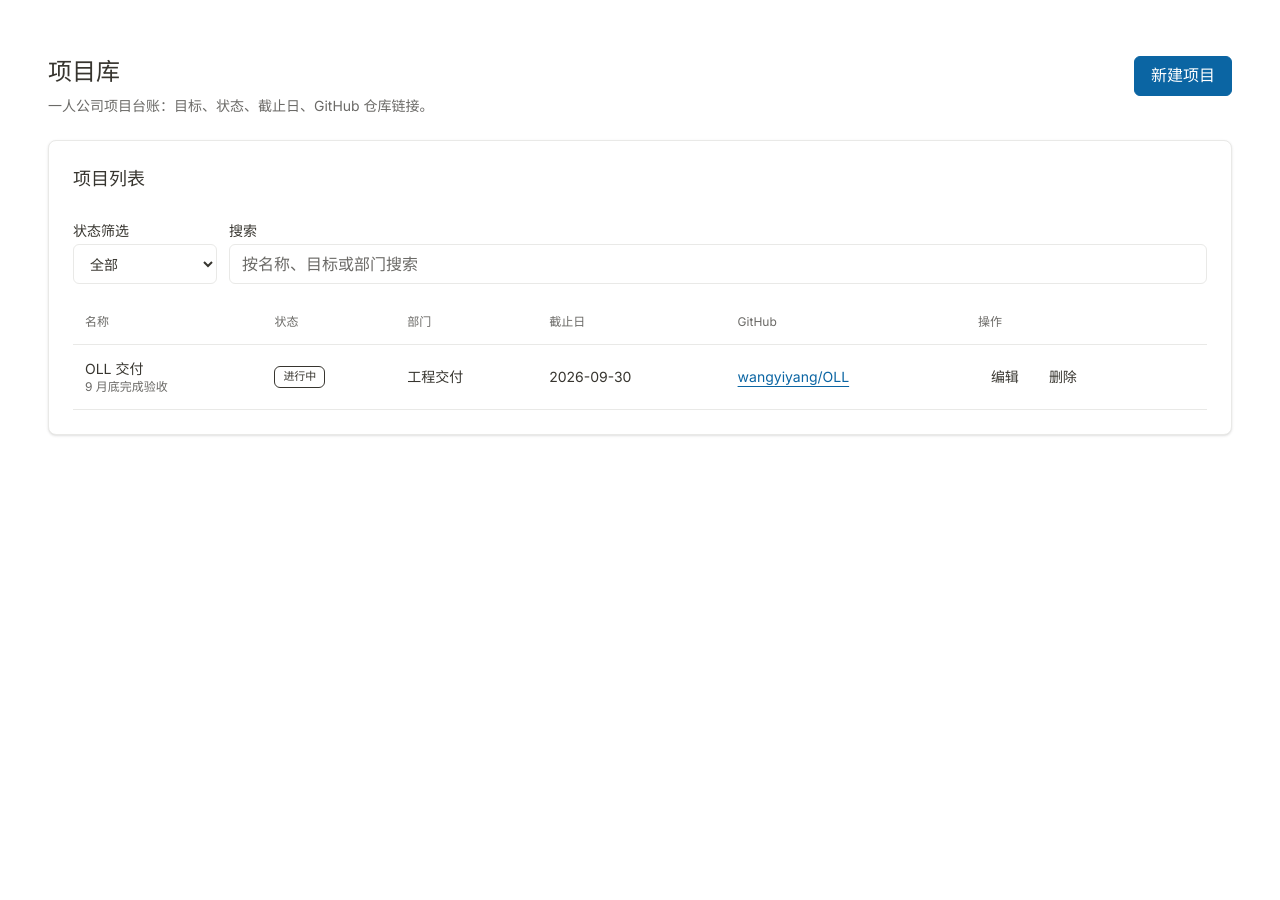
Test: ProjectsPage › opens the create drawer via 新建项目 and closes it without saving
Click the button "新建项目" at (1183, 76), box [1134, 56, 1232, 96]
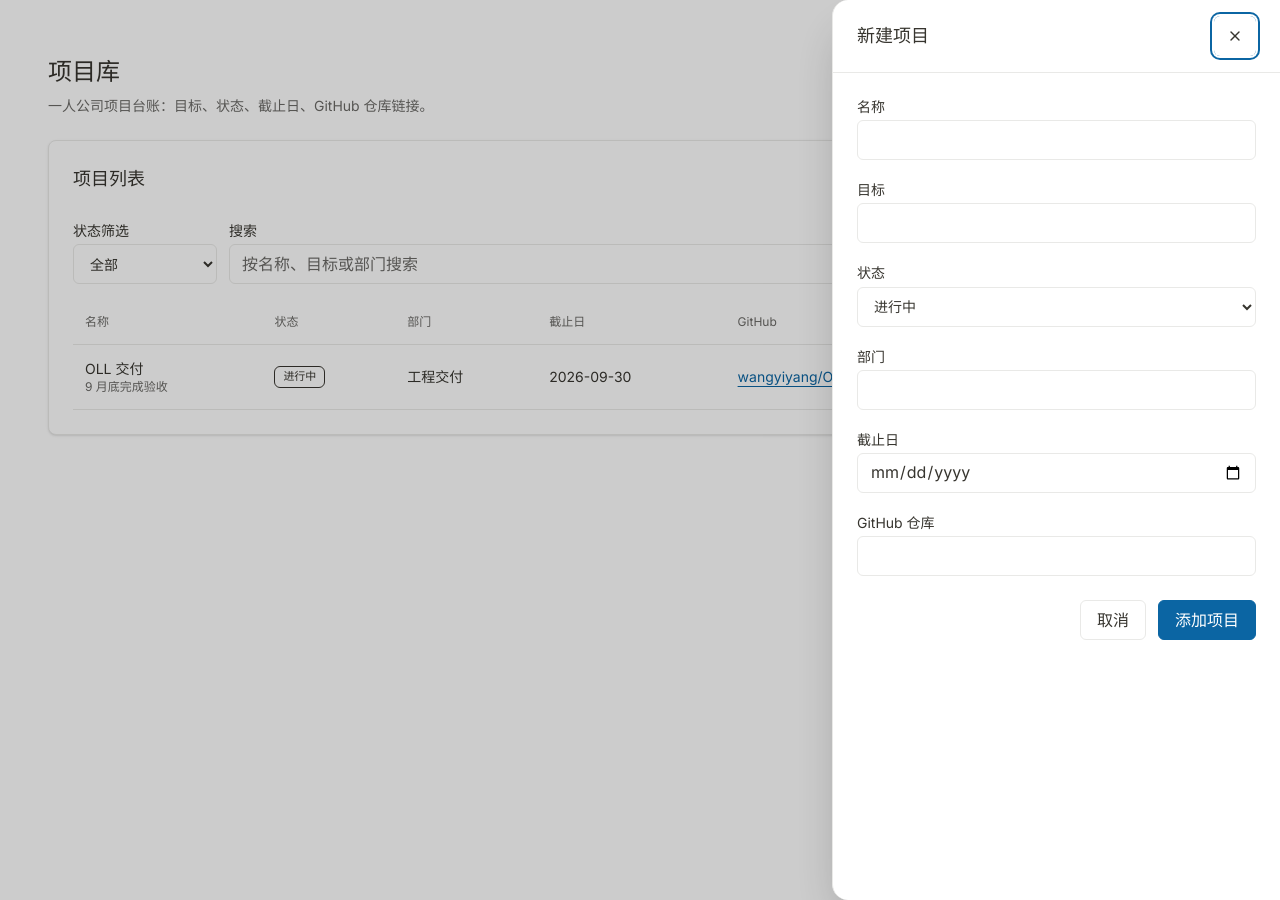
Expected: the dialog shows "新建项目", [857, 25, 929, 46]
Click the button named "关闭抽屉" at (1235, 36), box [1214, 16, 1256, 56]
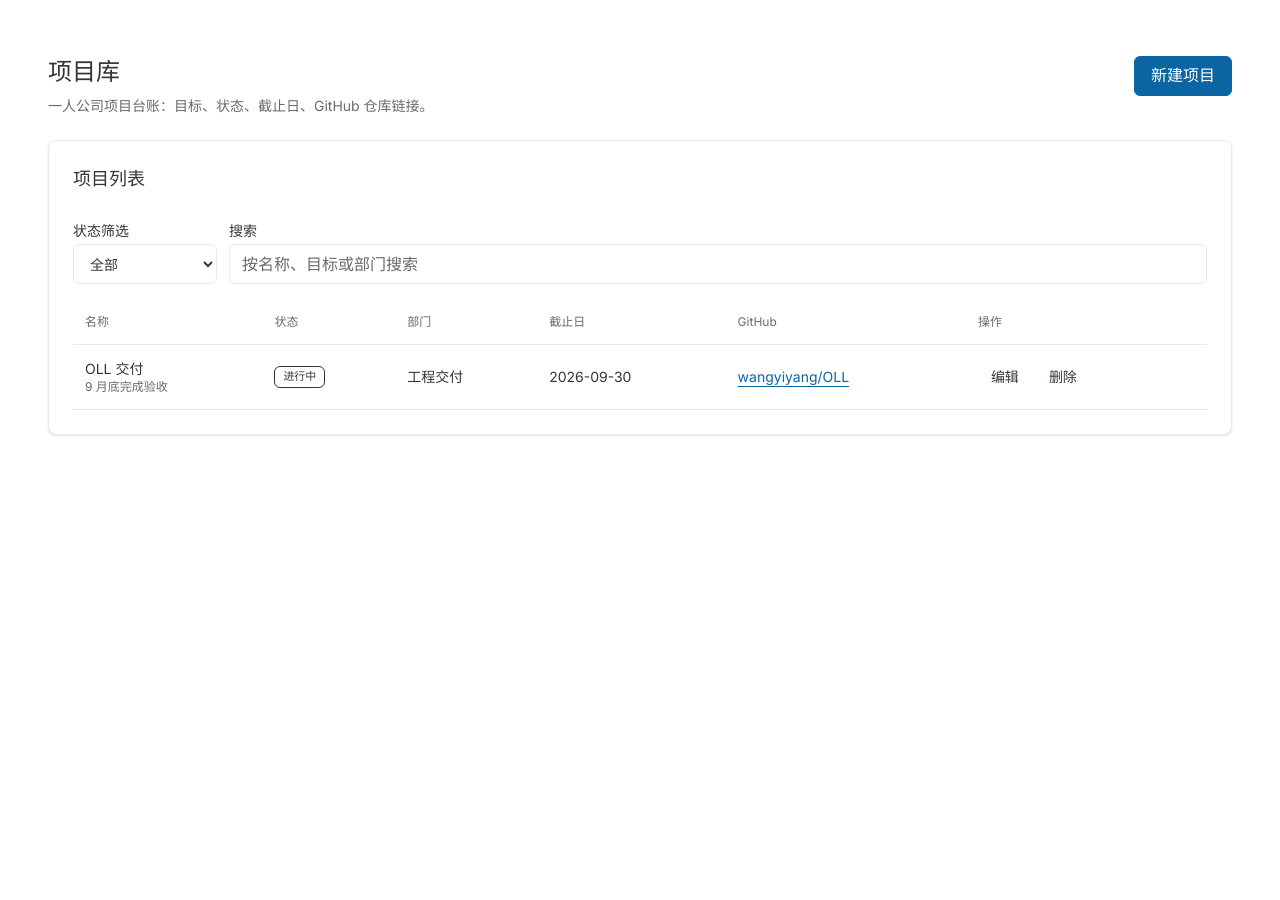
Expected: the dialog is gone
